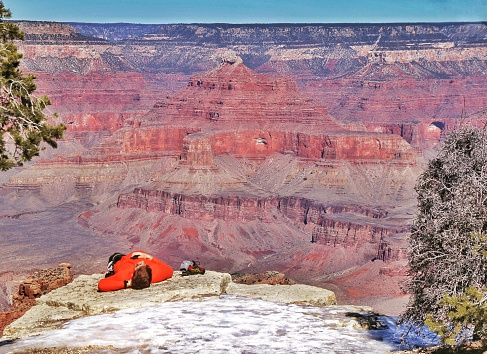deitado: (101, 247, 181, 289)
